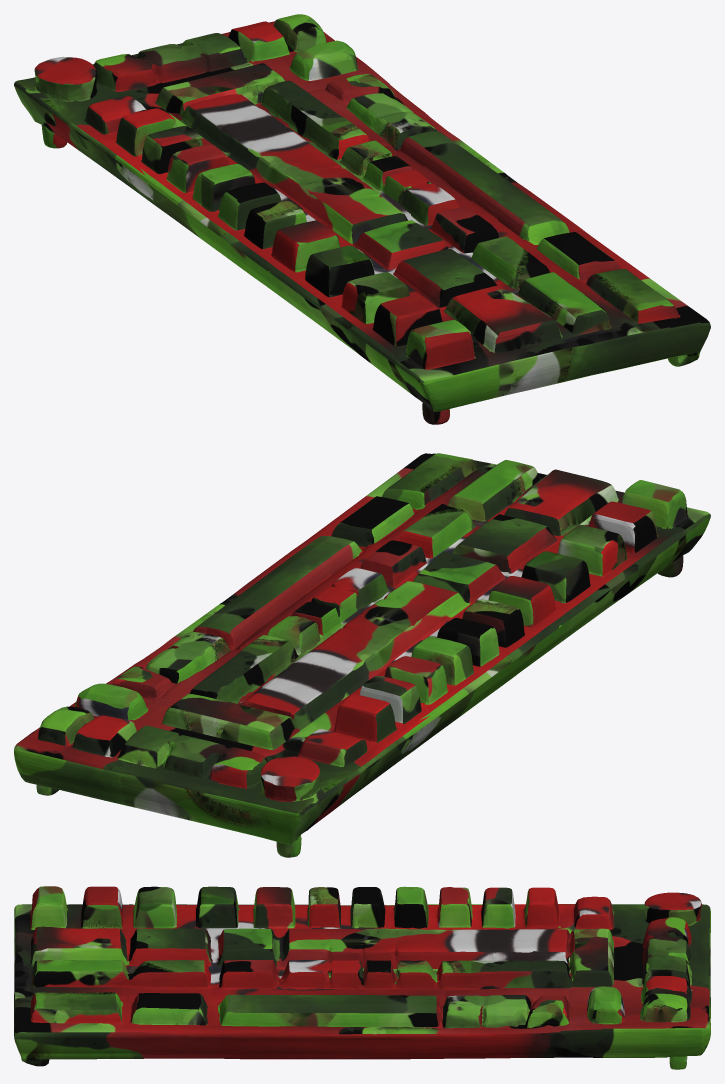
File: sample.obj
3 renders of one model, top to bottom at view 1: azimuth 30°, elevation 25°; view 2: azimuth 150°, elevation 25°; view 3: azimuth 270°, elevation 25°, orthographic. The views are drawn at different scales.
Size of the model in its own units: 0.172 by 0.05 by 0.4201.
